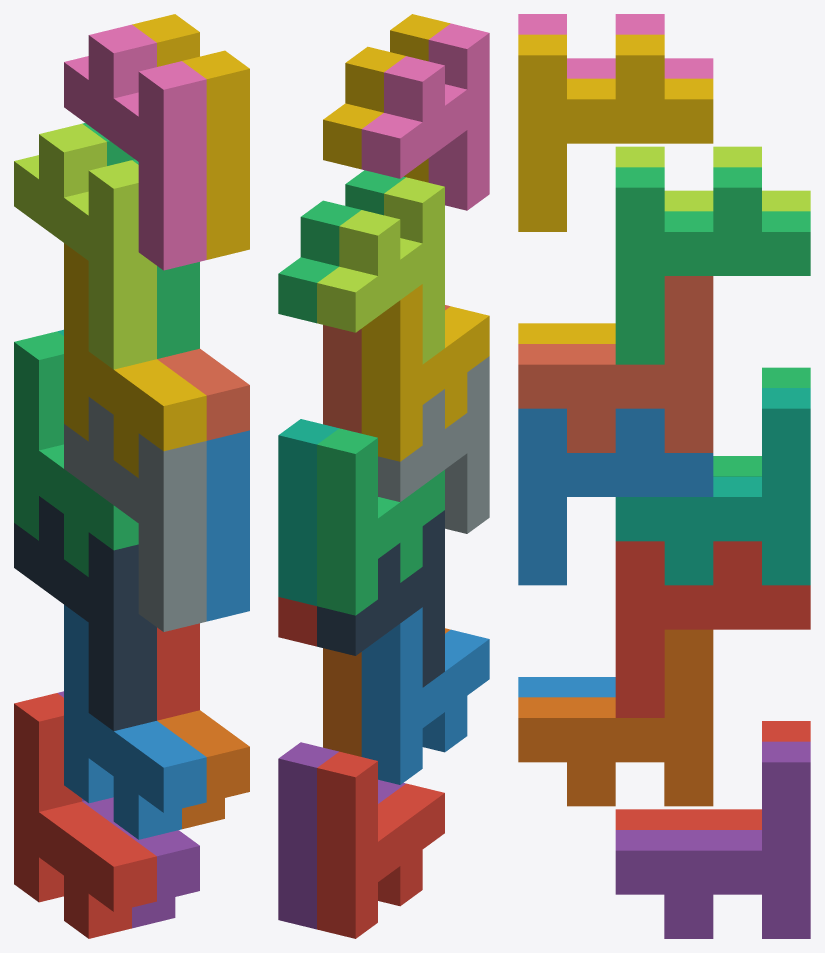
Rendered from tiling.obj.
3 renders of one model, left to right at view 1: azimuth 30°, elevation 25°; view 2: azimuth 150°, elevation 25°; view 3: azimuth 270°, elevation 25°, orthographic. The views are drawn at different scales.
Parts seen in each view (by area): view 1: copy_2_domain_4, copy_2_domain_3, copy_1_domain_1, copy_2_domain_2, copy_2_domain_1, copy_1_domain_2, copy_1_domain_3, copy_1_domain_4, copy_2_domain_8, copy_2_domain_6, copy_1_domain_6, copy_1_domain_5 (+3 smaller); view 2: copy_1_domain_1, copy_2_domain_4, copy_1_domain_3, copy_2_domain_3, copy_1_domain_2, copy_1_domain_4, copy_2_domain_2, copy_2_domain_1, copy_1_domain_5, copy_1_domain_7, copy_2_domain_8, copy_2_domain_7 (+3 smaller); view 3: copy_2_domain_8, copy_2_domain_7, copy_1_domain_5, copy_1_domain_6, copy_1_domain_7, copy_1_domain_8, copy_2_domain_5, copy_2_domain_6, copy_2_domain_3, copy_2_domain_4, copy_1_domain_1, copy_1_domain_2 (+2 smaller).
Boxes of the visible parts, x1,y1,x2,y2 form: copy_2_domain_4: (64,24,206,270); copy_2_domain_3: (14,123,156,369); copy_1_domain_1: (14,693,156,938); copy_2_domain_2: (64,397,206,631); copy_2_domain_1: (14,496,156,730); copy_1_domain_2: (64,604,206,839); copy_1_domain_3: (14,331,138,576); copy_1_domain_4: (64,243,206,477); copy_2_domain_8: (132,14,249,259); copy_2_domain_6: (206,430,249,621); copy_1_domain_6: (157,710,249,829); copy_1_domain_5: (58,691,199,928); copy_1_domain_1: (317,751,444,938); copy_2_domain_4: (361,23,489,210); copy_1_domain_3: (317,428,444,615); copy_2_domain_3: (317,177,444,364); copy_1_domain_2: (361,607,489,784); copy_1_domain_4: (361,284,489,461); copy_2_domain_2: (378,356,489,533); copy_2_domain_1: (317,510,444,687); copy_1_domain_5: (278,742,405,929); copy_1_domain_7: (278,419,338,605); copy_2_domain_8: (323,14,450,182); copy_2_domain_7: (278,170,405,323); copy_2_domain_8: (518,34,713,231); copy_2_domain_7: (615,167,810,364); copy_1_domain_5: (615,741,810,938); copy_1_domain_6: (518,629,713,806); copy_1_domain_7: (615,388,810,585); copy_1_domain_8: (518,276,713,452); copy_2_domain_5: (615,541,810,717); copy_2_domain_6: (518,408,713,585); copy_2_domain_3: (615,146,810,211); copy_2_domain_4: (518,14,713,78); copy_1_domain_1: (615,721,810,829); copy_1_domain_2: (518,677,615,697).
Size of the model in its own units: 2 by 20 by 6.
